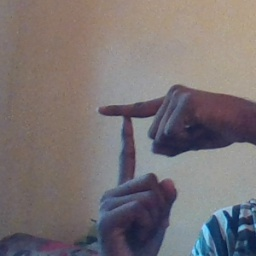T: (77, 84, 182, 203)
